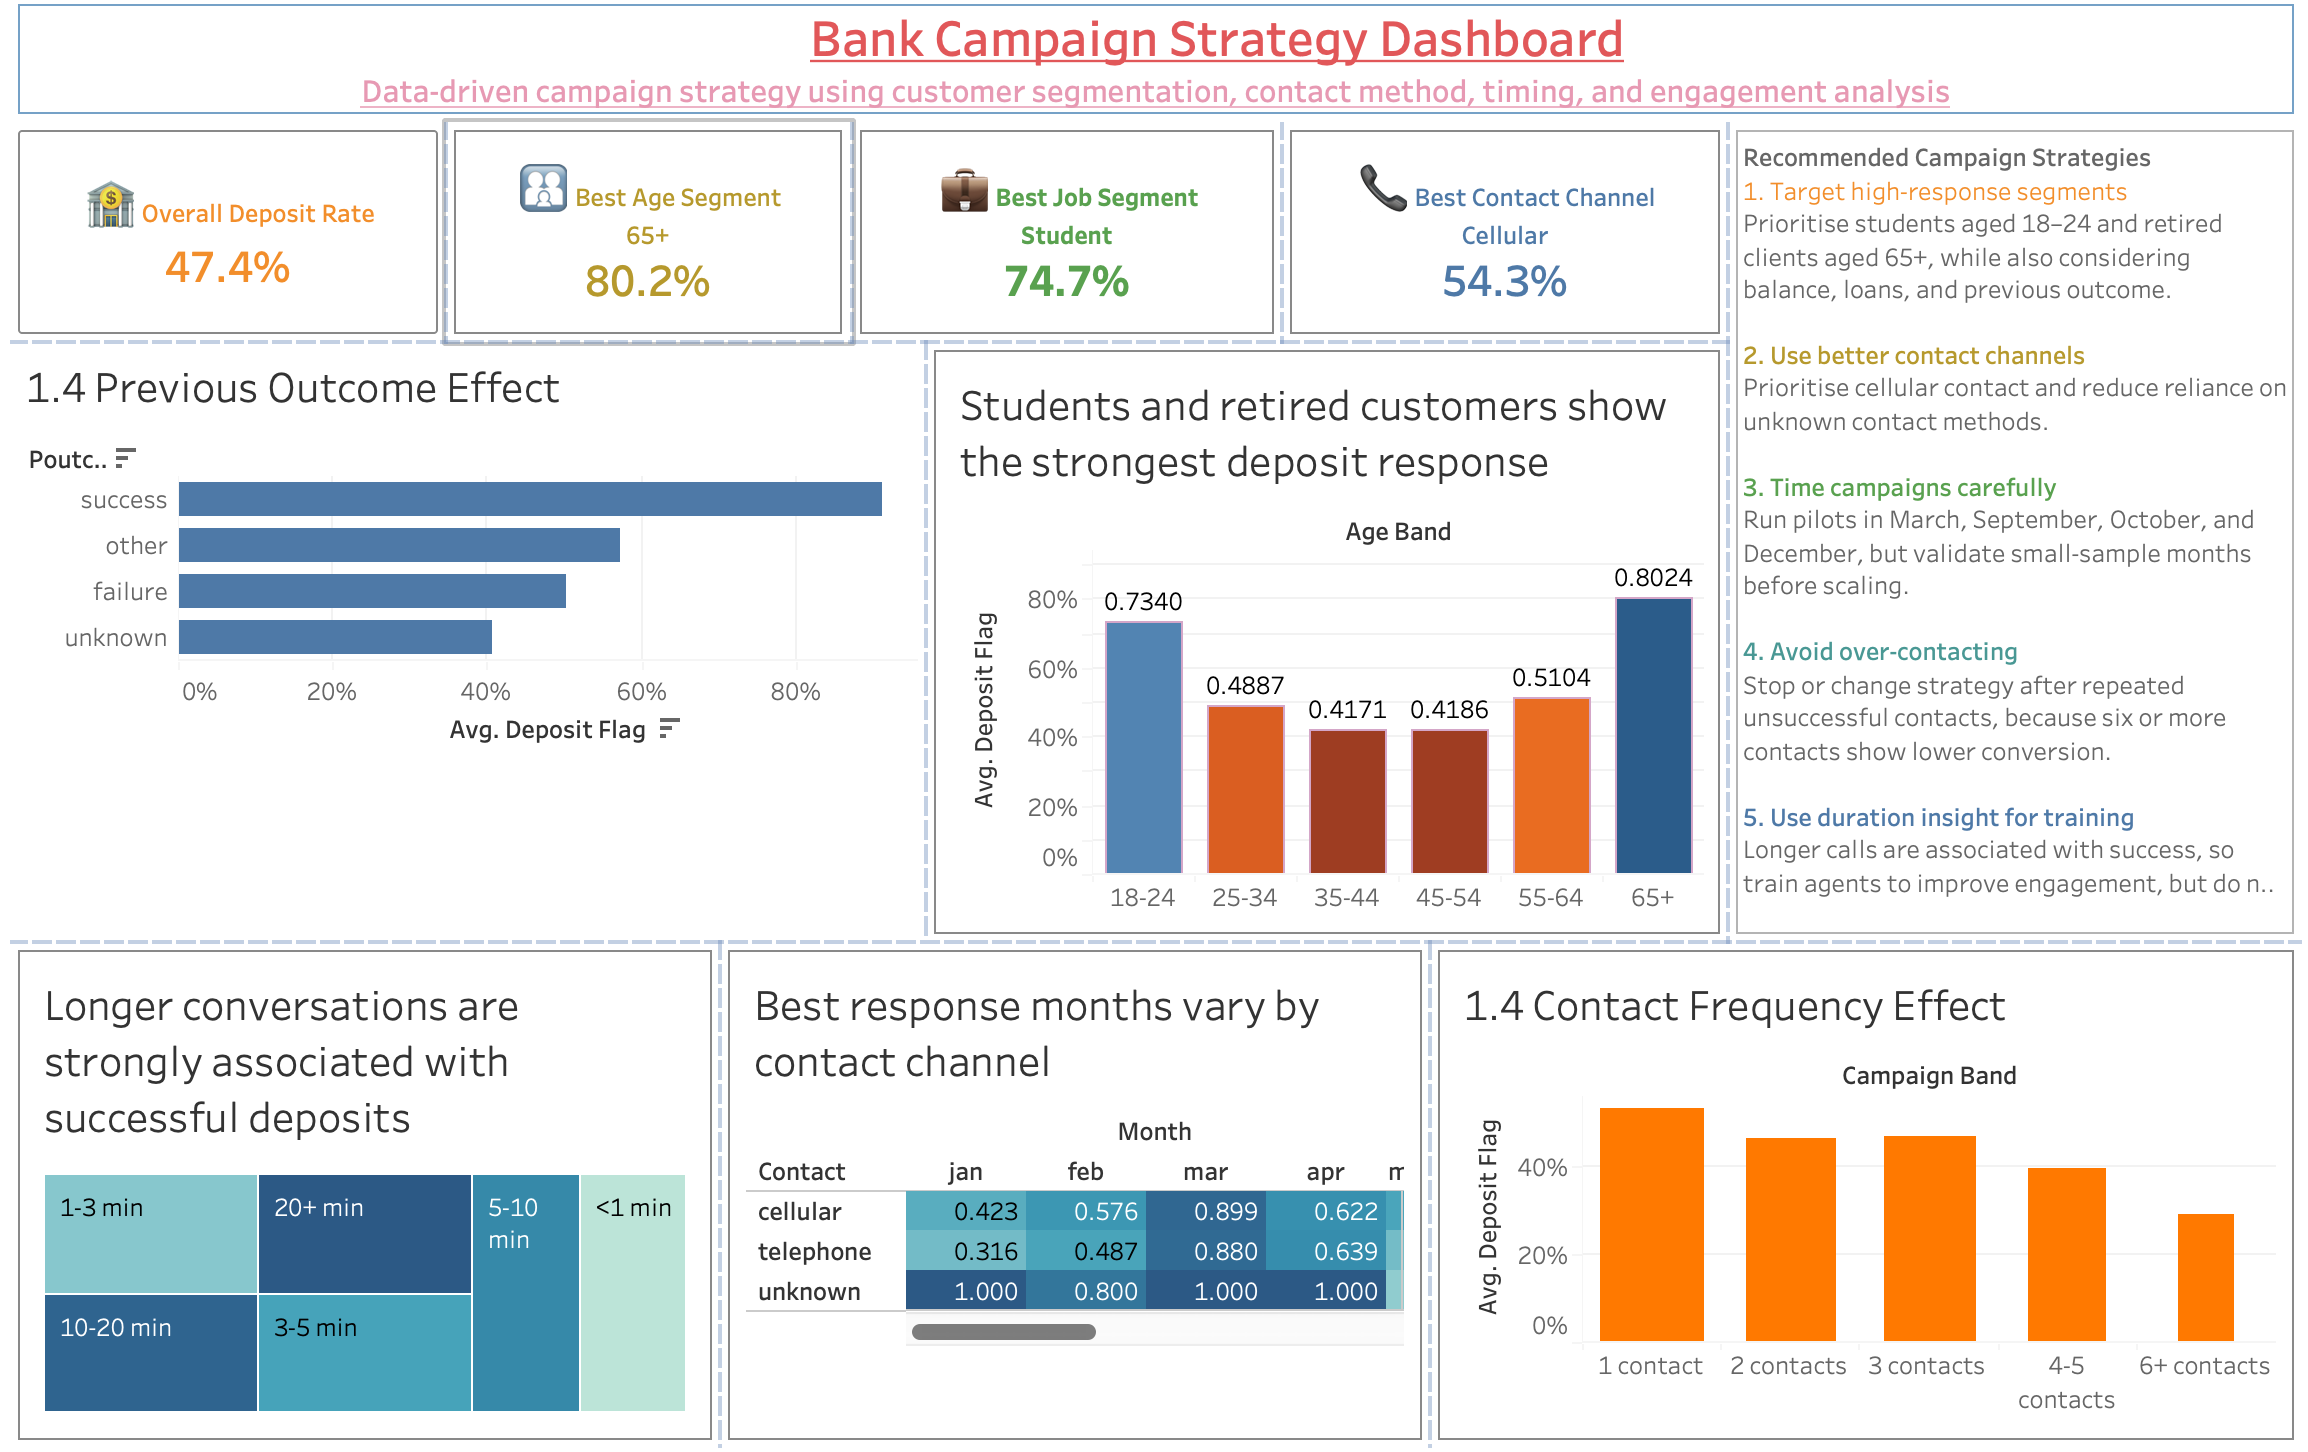

What the dashboard file says about the page in this screenshot:
{"tool":"tableau","page":{"name":"Dashboard 1","canvas":[1162,742],"ordinal":0},"visuals":[{"type":"title","box":[8,8,1146,63]},{"type":"text","box":[8,71,218.5,110.5]},{"type":"text","box":[226.5,71,202.2,110.5]},{"type":"text","box":[428.7,71,215.3,110.5]},{"type":"text","box":[644,71,223.5,110.5]},{"type":"text","box":[867.5,71,286.5,410]},{"type":"worksheet","title":"1.4 Previous Outcome Effect","mark":"Automatic","rows":["poutcome"],"cols":["Calculation_0046656067719181"],"box":[8,181.5,458,299.5]},{"type":"worksheet","title":"Job Impact on Deposit Rate","mark":"Automatic","rows":["Calculation_0046656067719181"],"cols":["Calculation_0046656056844296"],"box":[466,181.5,401.5,299.5]},{"type":"worksheet","title":"Duration and Campaign Success","mark":"Automatic","box":[8,481,354.9,253]},{"type":"worksheet","title":"1.4 Month Contact Heatmap","mark":"Automatic","rows":["contact"],"cols":["month"],"box":[362.9,481,354.9,253]},{"type":"worksheet","title":"1.4 Contact Frequency Effect","mark":"Automatic","rows":["Calculation_0046656067719181"],"cols":["Calculation_0046656062791691"],"box":[717.7,481,436.3,253]}]}

Visuals, with their boxes in screenshot pixels (x1, y1, x2, y2), scaled from the page's 1162x742 canvas onto the 2308x1452 screenshot:
title: 16:16:2292:139
text: 16:139:450:355
text: 450:139:851:355
text: 851:139:1279:355
text: 1279:139:1723:355
text: 1723:139:2292:941
"1.4 Previous Outcome Effect" worksheet: 16:355:926:941
"Job Impact on Deposit Rate" worksheet: 926:355:1723:941
"Duration and Campaign Success" worksheet: 16:941:721:1436
"1.4 Month Contact Heatmap" worksheet: 721:941:1426:1436
"1.4 Contact Frequency Effect" worksheet: 1426:941:2292:1436
